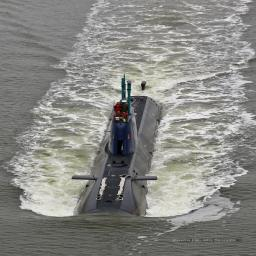submarine: (68, 83, 176, 222)
